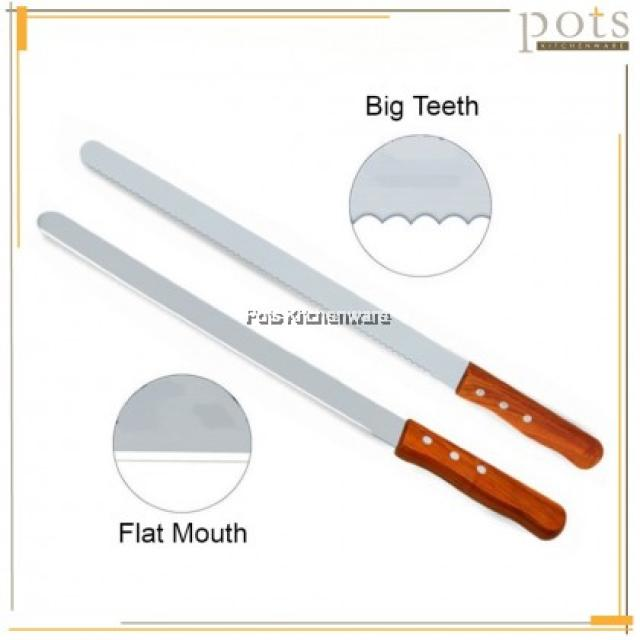Knife: (38, 212, 565, 539)
